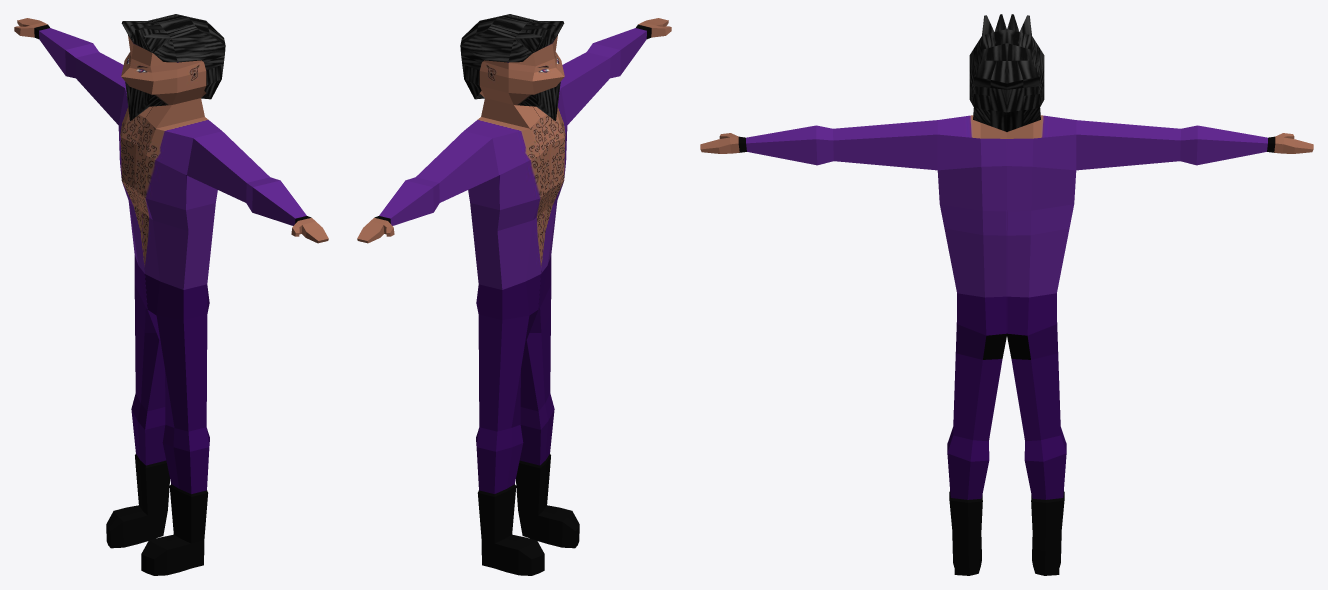
File: Grimsnap1.fbx
The picture shows the model from 3 angles, left to right: view 1: azimuth 30°, elevation 25°; view 2: azimuth 150°, elevation 25°; view 3: azimuth 270°, elevation 25°; orthographic projection.
Visible parts, largest first — view 1: Cube; view 2: Cube; view 3: Cube.
Part boxes in pixels (<box>): Cube: <box>14,14,328,575</box>; Cube: <box>357,14,671,575</box>; Cube: <box>700,14,1313,575</box>.
Bounding box in the file's own units: 222 × 1183 × 1218.
